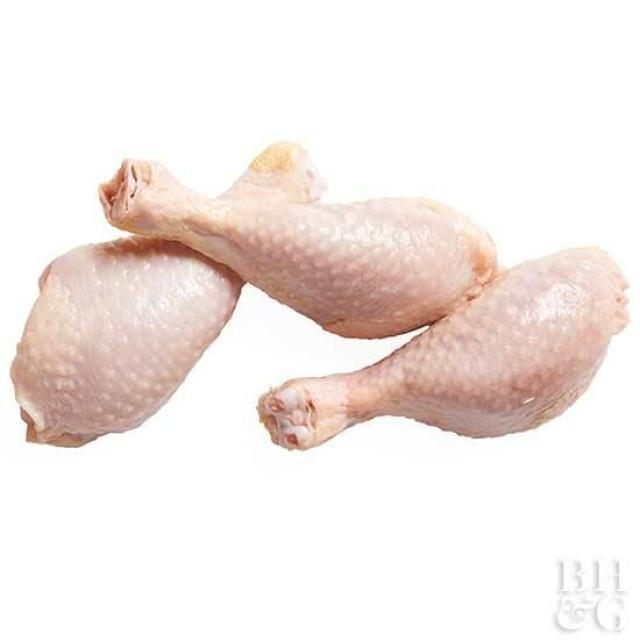leg: (15, 142, 316, 454), (258, 246, 626, 462), (99, 162, 488, 340)
